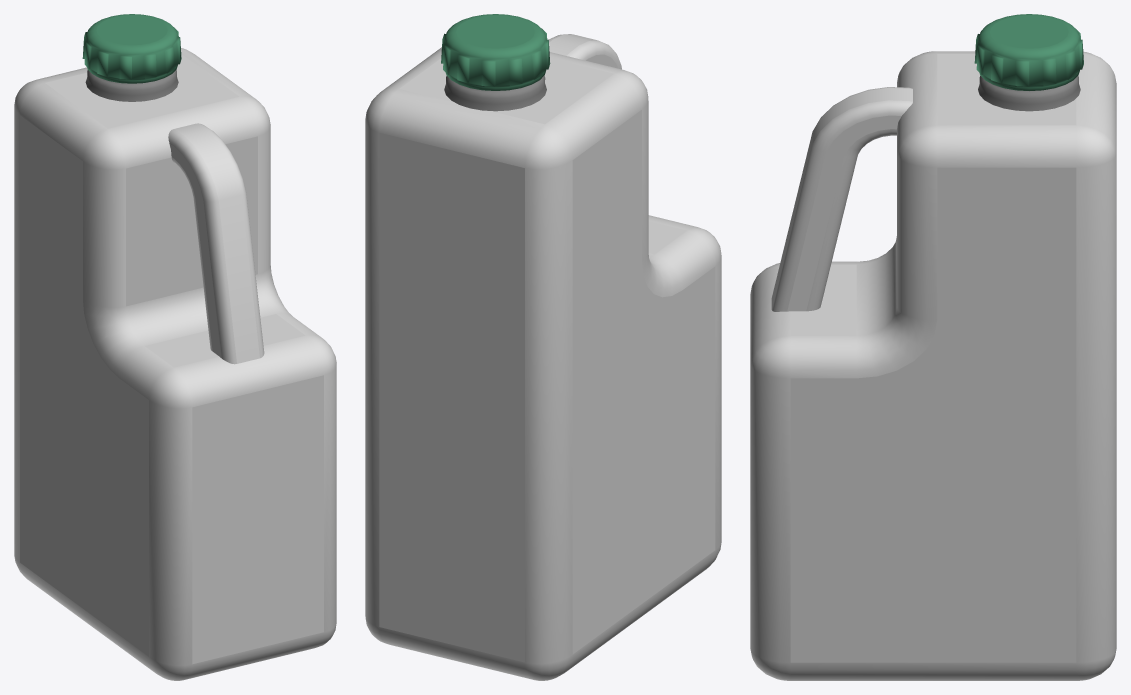
3 renders of one model, left to right at view 1: azimuth 30°, elevation 25°; view 2: azimuth 150°, elevation 25°; view 3: azimuth 270°, elevation 25°, orthographic. The views are drawn at different scales.
Size of the model in its own units: 0.1016 by 0.2945 by 0.16.
